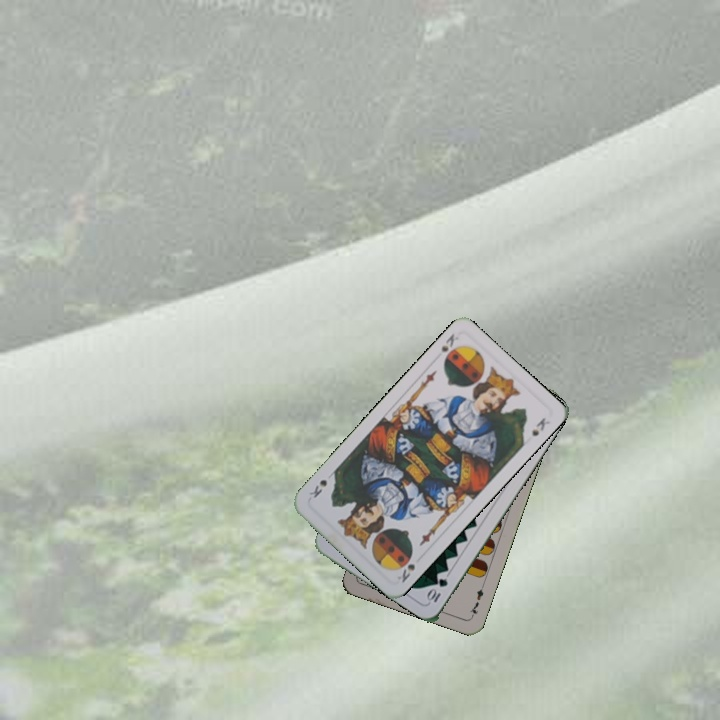E7: (466, 580, 487, 620)
G10: (423, 574, 451, 605)
SK: (436, 329, 463, 356), (393, 560, 418, 585)
